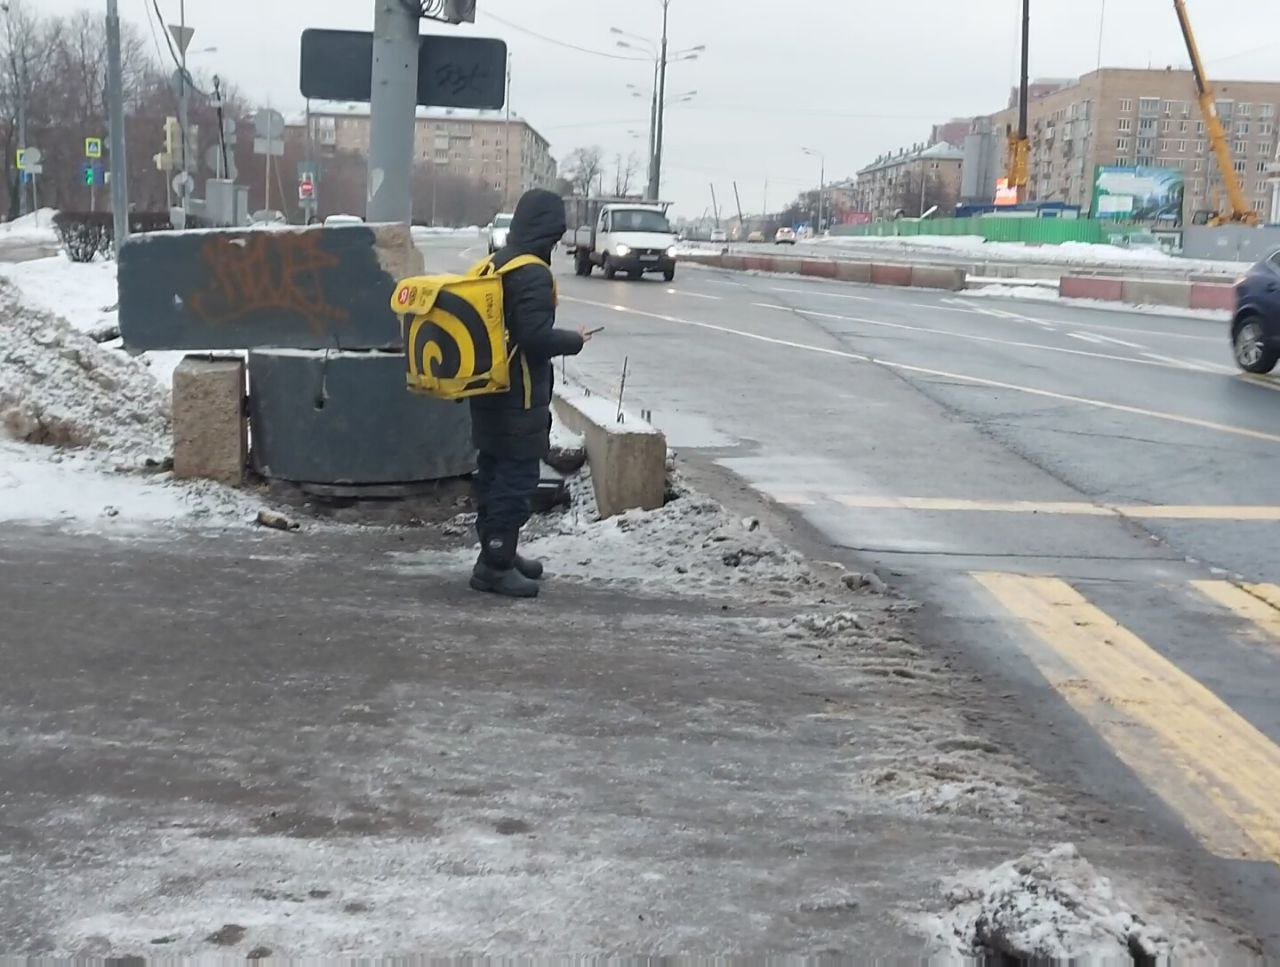sombie: (381, 154, 615, 621)
